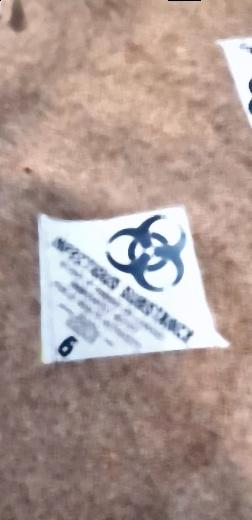infectious-substance: (41, 204, 219, 366)
